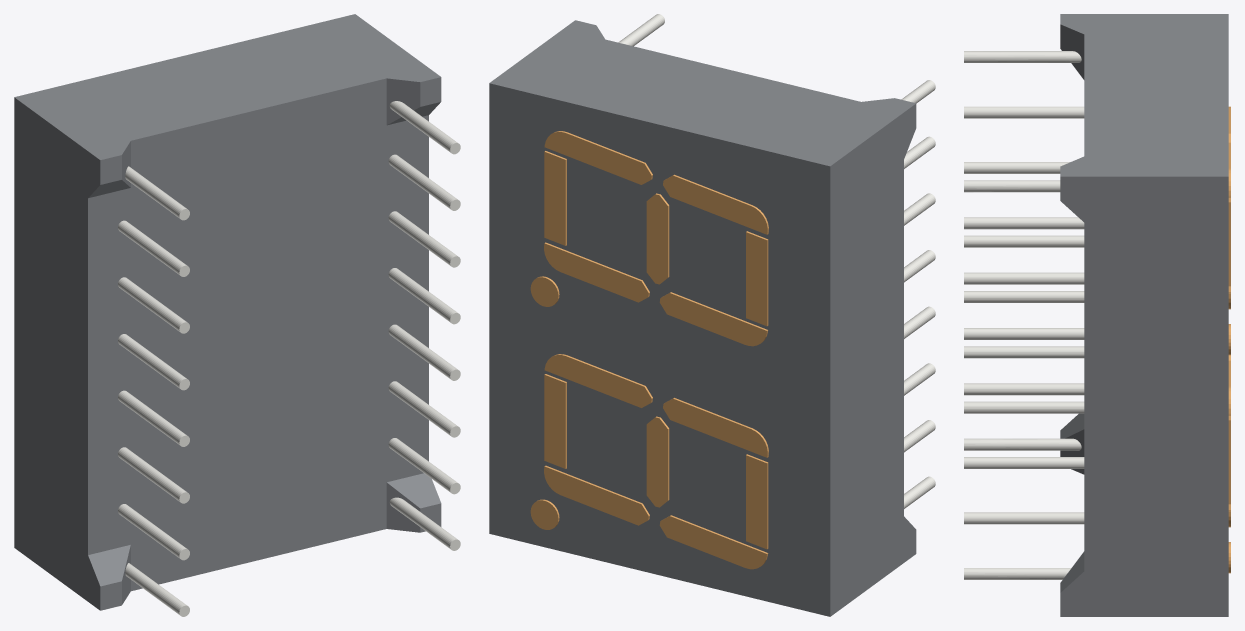
The model's file is DA04-11SEKWA.glb.
3 renders of one model, left to right at view 1: azimuth 30°, elevation 25°; view 2: azimuth 150°, elevation 25°; view 3: azimuth 270°, elevation 25°, orthographic. The views are drawn at different scales.
Parts seen in each view (by area): view 1: Shape_IndexedFaceSet.003, Shape_IndexedFaceSet.006, Shape_IndexedFaceSet.021, Shape_IndexedFaceSet.002, Shape_IndexedFaceSet.013, Shape_IndexedFaceSet.012, Shape_IndexedFaceSet.014, Shape_IndexedFaceSet.004, Shape_IndexedFaceSet.028, Shape_IndexedFaceSet.036, Shape_IndexedFaceSet.031, Shape_IndexedFaceSet.034 (+15 smaller); view 2: Shape_IndexedFaceSet.020, Shape_IndexedFaceSet.006, Shape_IndexedFaceSet.021, Shape_IndexedFaceSet.160, Shape_IndexedFaceSet.159, Shape_IndexedFaceSet.152, Shape_IndexedFaceSet.150, Shape_IndexedFaceSet.149, Shape_IndexedFaceSet.146, Shape_IndexedFaceSet.156, Shape_IndexedFaceSet.158, Shape_IndexedFaceSet.147 (+7 smaller); view 3: Shape_IndexedFaceSet.027, Shape_IndexedFaceSet.021, Shape_IndexedFaceSet.001, Shape_IndexedFaceSet.007, Shape_IndexedFaceSet.011, Shape_IndexedFaceSet.031, Shape_IndexedFaceSet.032, Shape_IndexedFaceSet.033, Shape_IndexedFaceSet.035, Shape_IndexedFaceSet.009, Shape_IndexedFaceSet.038, Shape_IndexedFaceSet.010 (+10 smaller).
Boxes of the visible parts, x1=… form: Shape_IndexedFaceSet.003: x1=131, y1=125, x2=386, y2=544; Shape_IndexedFaceSet.006: x1=14, y1=97, x2=100, y2=610; Shape_IndexedFaceSet.021: x1=14, y1=14, x2=440, y2=159; Shape_IndexedFaceSet.002: x1=88, y1=188, x2=130, y2=554; Shape_IndexedFaceSet.013: x1=131, y1=78, x2=386, y2=187; Shape_IndexedFaceSet.012: x1=386, y1=115, x2=428, y2=481; Shape_IndexedFaceSet.014: x1=131, y1=482, x2=386, y2=591; Shape_IndexedFaceSet.004: x1=88, y1=545, x2=130, y2=586; Shape_IndexedFaceSet.028: x1=387, y1=473, x2=440, y2=508; Shape_IndexedFaceSet.036: x1=386, y1=78, x2=420, y2=124; Shape_IndexedFaceSet.031: x1=388, y1=324, x2=457, y2=379; Shape_IndexedFaceSet.034: x1=388, y1=381, x2=458, y2=435; Shape_IndexedFaceSet.020: x1=489, y1=83, x2=830, y2=616; Shape_IndexedFaceSet.006: x1=830, y1=104, x2=916, y2=616; Shape_IndexedFaceSet.021: x1=489, y1=20, x2=915, y2=166; Shape_IndexedFaceSet.160: x1=544, y1=132, x2=651, y2=184; Shape_IndexedFaceSet.159: x1=663, y1=175, x2=767, y2=234; Shape_IndexedFaceSet.152: x1=544, y1=355, x2=651, y2=407; Shape_IndexedFaceSet.150: x1=663, y1=398, x2=767, y2=457; Shape_IndexedFaceSet.149: x1=544, y1=466, x2=648, y2=525; Shape_IndexedFaceSet.146: x1=659, y1=516, x2=766, y2=569; Shape_IndexedFaceSet.156: x1=544, y1=243, x2=648, y2=302; Shape_IndexedFaceSet.158: x1=659, y1=293, x2=766, y2=346; Shape_IndexedFaceSet.147: x1=746, y1=455, x2=767, y2=549; Shape_IndexedFaceSet.027: x1=1060, y1=176, x2=1228, y2=616; Shape_IndexedFaceSet.021: x1=1060, y1=14, x2=1228, y2=176; Shape_IndexedFaceSet.001: x1=964, y1=383, x2=1084, y2=395; Shape_IndexedFaceSet.007: x1=964, y1=106, x2=1084, y2=118; Shape_IndexedFaceSet.011: x1=964, y1=272, x2=1084, y2=284; Shape_IndexedFaceSet.031: x1=964, y1=401, x2=1084, y2=413; Shape_IndexedFaceSet.032: x1=964, y1=346, x2=1084, y2=358; Shape_IndexedFaceSet.033: x1=964, y1=512, x2=1084, y2=524; Shape_IndexedFaceSet.035: x1=964, y1=235, x2=1084, y2=247; Shape_IndexedFaceSet.009: x1=964, y1=217, x2=1084, y2=229; Shape_IndexedFaceSet.038: x1=964, y1=438, x2=1081, y2=450; Shape_IndexedFaceSet.010: x1=964, y1=328, x2=1084, y2=339.
Bounding box in the file's own units: 6.3 × 7.95 × 4.37.
